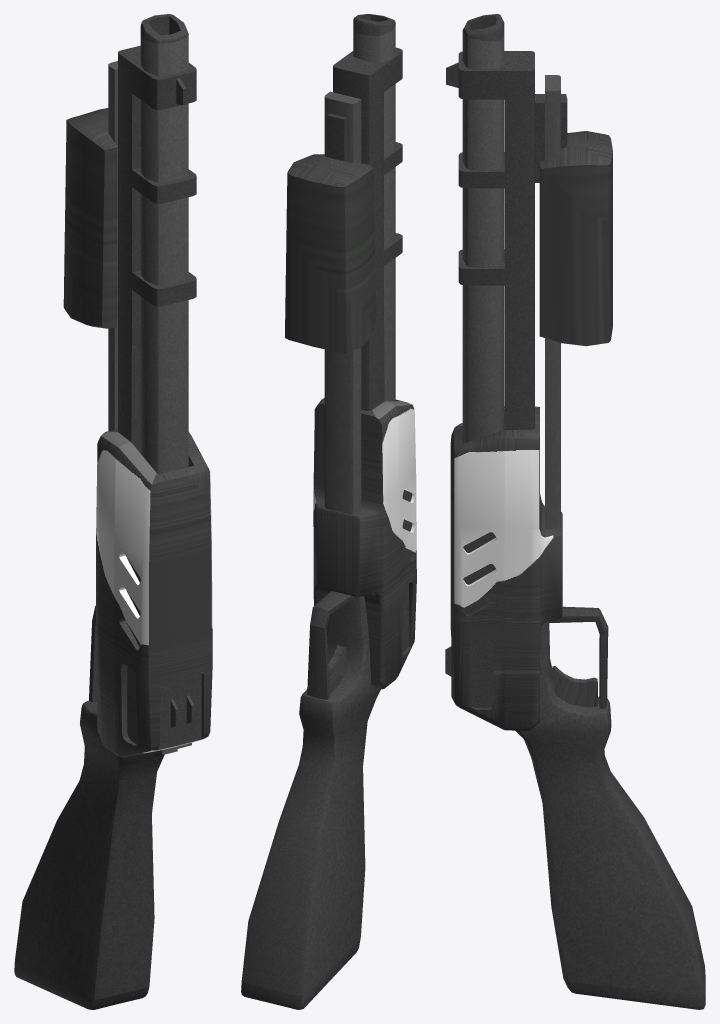
Rendered from paintball shotgun.glb.
3 views of the same model, side by side, from view 1: azimuth 30°, elevation 25°; view 2: azimuth 150°, elevation 25°; view 3: azimuth 270°, elevation 25° (orthographic). The views are drawn at different scales.
Visible parts, largest first — view 1: PaintBall_Shotgun_LOD0; view 2: PaintBall_Shotgun_LOD0; view 3: PaintBall_Shotgun_LOD0.
Boxes of the visible parts, x1,y1,x2,y2 form: PaintBall_Shotgun_LOD0: [14, 14, 212, 1009]; PaintBall_Shotgun_LOD0: [241, 14, 416, 1009]; PaintBall_Shotgun_LOD0: [445, 14, 705, 1009].
Size of the model in its own units: 0.0628 by 0.7633 by 0.1845.
1 material, 1 textured.
